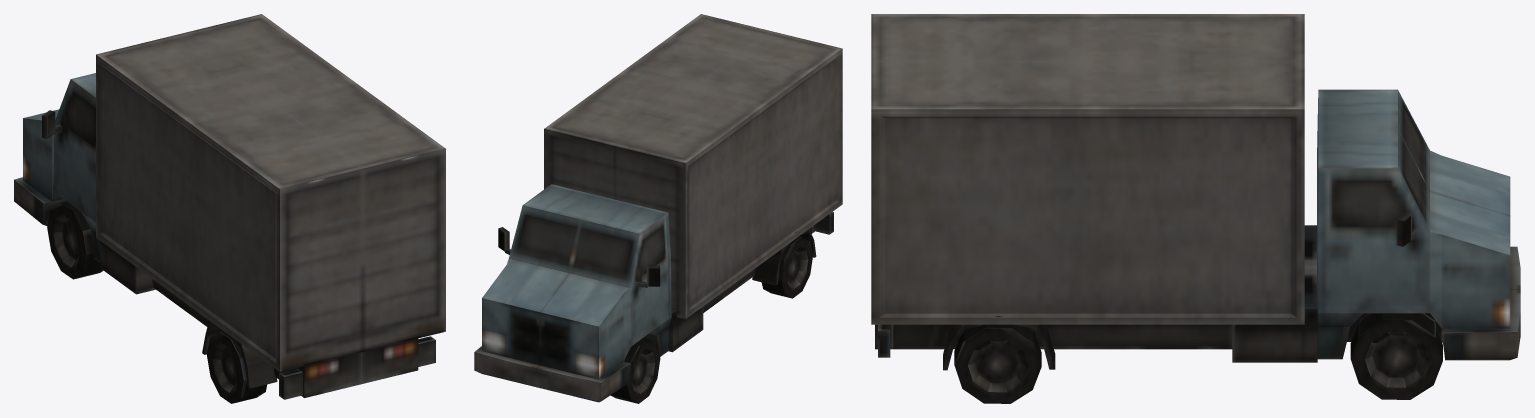
The model's file is Truck_1.fbx.
The picture shows the model from 3 angles, left to right: view 1: azimuth 30°, elevation 25°; view 2: azimuth 150°, elevation 25°; view 3: azimuth 270°, elevation 25°; orthographic projection. The views are drawn at different scales.
Visible parts, largest first — view 1: Truck_1; view 2: Truck_1; view 3: Truck_1.
Boxes of the visible parts, x1,y1,x2,y2 form: Truck_1: [14, 14, 445, 403]; Truck_1: [474, 14, 842, 403]; Truck_1: [871, 14, 1520, 403].
Size of the model in its own units: 347 by 440 by 874.
1 material, 1 textured.
